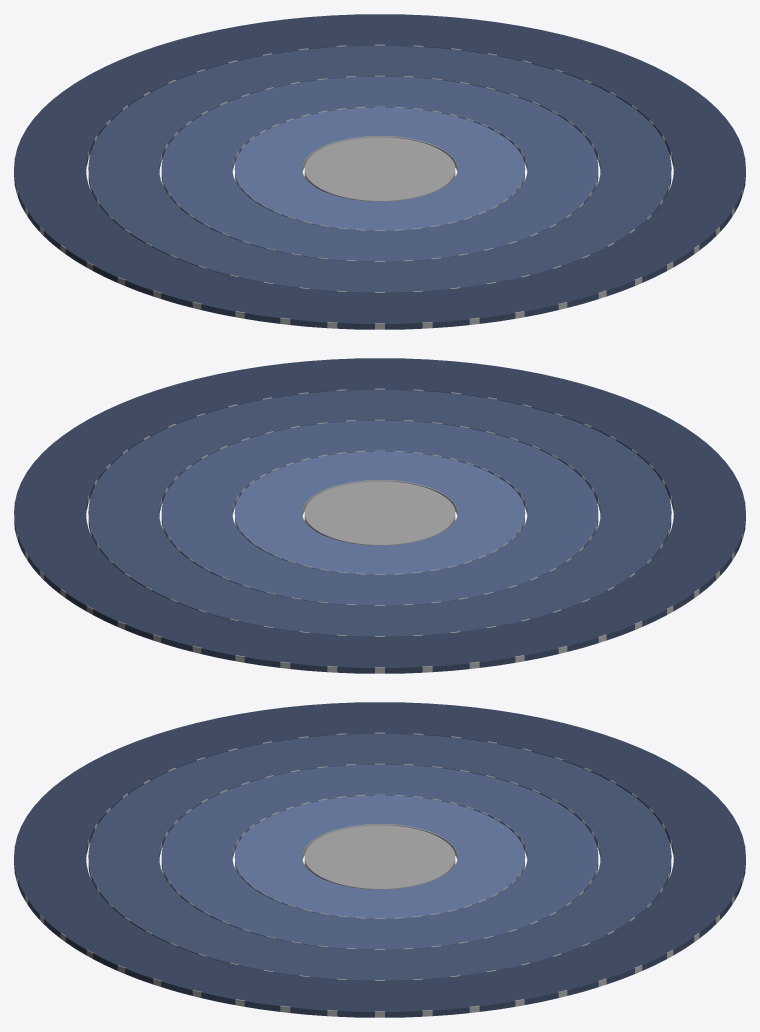
File: Lock_Picking_Puzzle_Rebuild_000.fbx
3 renders of one model, top to bottom at view 1: azimuth 30°, elevation 25°; view 2: azimuth 150°, elevation 25°; view 3: azimuth 270°, elevation 25°, orthographic.
Parts seen in each view (by area): view 1: Ring_04_Touch_Control, Ring_03_Touch_Control, Ring_02_Touch_Control, Ring_01_Touch_Control, Center_Block, Ring_04, Ring_03, Ring_02; view 2: Ring_04_Touch_Control, Ring_03_Touch_Control, Ring_02_Touch_Control, Ring_01_Touch_Control, Center_Block, Ring_04, Ring_03, Ring_02; view 3: Ring_04_Touch_Control, Ring_03_Touch_Control, Ring_02_Touch_Control, Ring_01_Touch_Control, Center_Block, Ring_04, Ring_03, Ring_02.
Part boxes in pixels (left/top/right/bottom): Ring_04_Touch_Control: left=14, top=14, right=745, bottom=323; Ring_03_Touch_Control: left=88, top=45, right=671, bottom=291; Ring_02_Touch_Control: left=161, top=76, right=598, bottom=260; Ring_01_Touch_Control: left=234, top=107, right=525, bottom=229; Center_Block: left=304, top=137, right=455, bottom=201; Ring_04: left=14, top=44, right=745, bottom=329; Ring_03: left=88, top=75, right=671, bottom=292; Ring_02: left=161, top=106, right=598, bottom=261; Ring_04_Touch_Control: left=14, top=358, right=745, bottom=667; Ring_03_Touch_Control: left=88, top=389, right=671, bottom=635; Ring_02_Touch_Control: left=161, top=420, right=598, bottom=604; Ring_01_Touch_Control: left=234, top=451, right=525, bottom=573; Center_Block: left=304, top=481, right=455, bottom=545; Ring_04: left=14, top=388, right=745, bottom=673; Ring_03: left=88, top=419, right=671, bottom=636; Ring_02: left=161, top=450, right=598, bottom=605; Ring_04_Touch_Control: left=14, top=702, right=745, bottom=1011; Ring_03_Touch_Control: left=88, top=733, right=671, bottom=979; Ring_02_Touch_Control: left=161, top=764, right=598, bottom=948; Ring_01_Touch_Control: left=234, top=795, right=525, bottom=917; Center_Block: left=304, top=825, right=455, bottom=889; Ring_04: left=14, top=732, right=745, bottom=1017; Ring_03: left=88, top=763, right=671, bottom=980; Ring_02: left=161, top=794, right=598, bottom=949.
Size of what is drawn, in the model's own units: 912 by 9.28 by 913.
